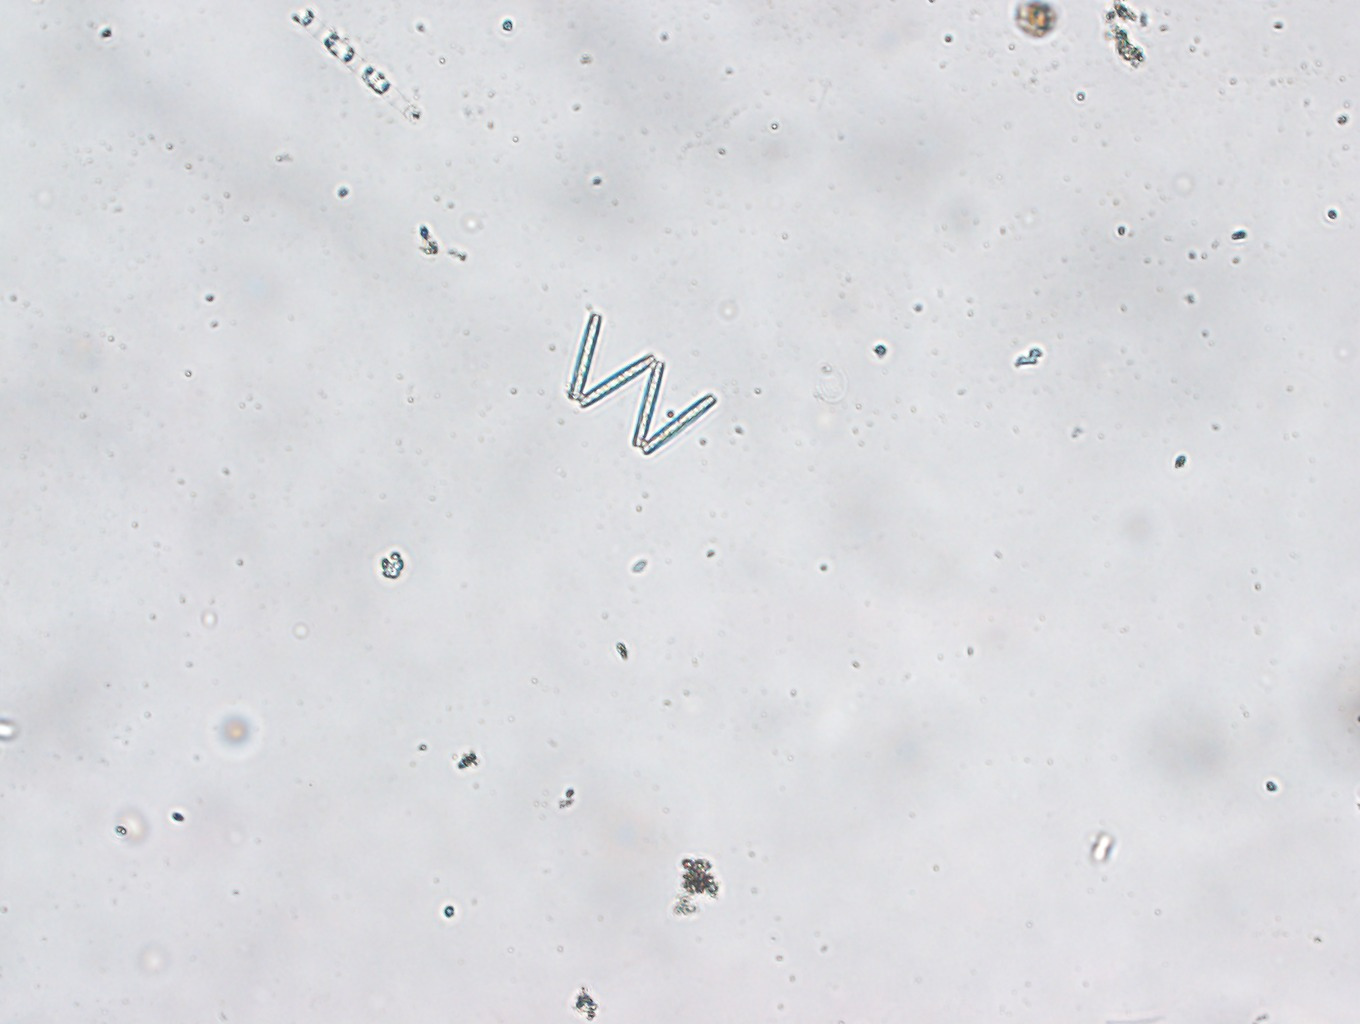skeletonema: (292, 2, 425, 127)
thalassionema nitzschioides: (567, 314, 716, 456)
